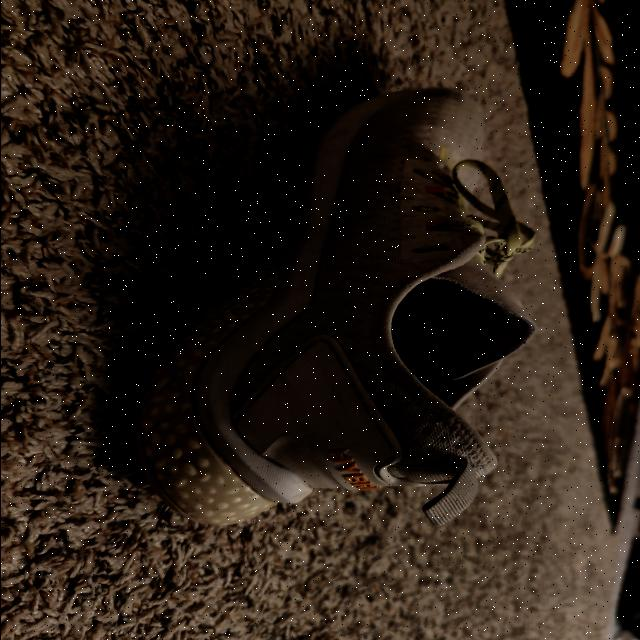white shoes: (128, 94, 496, 520)
